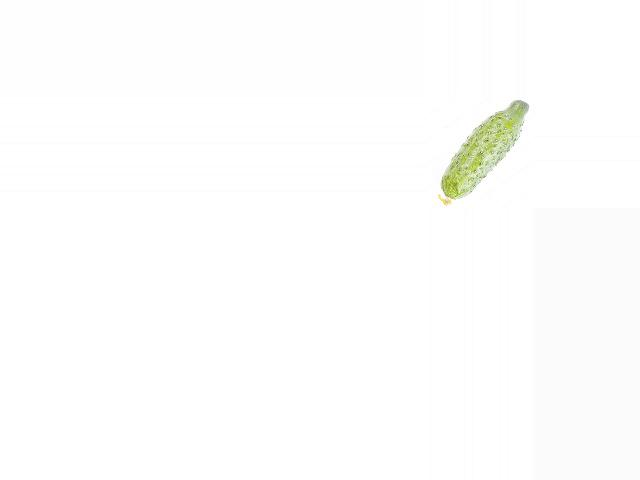cucumber: (438, 100, 529, 206)
